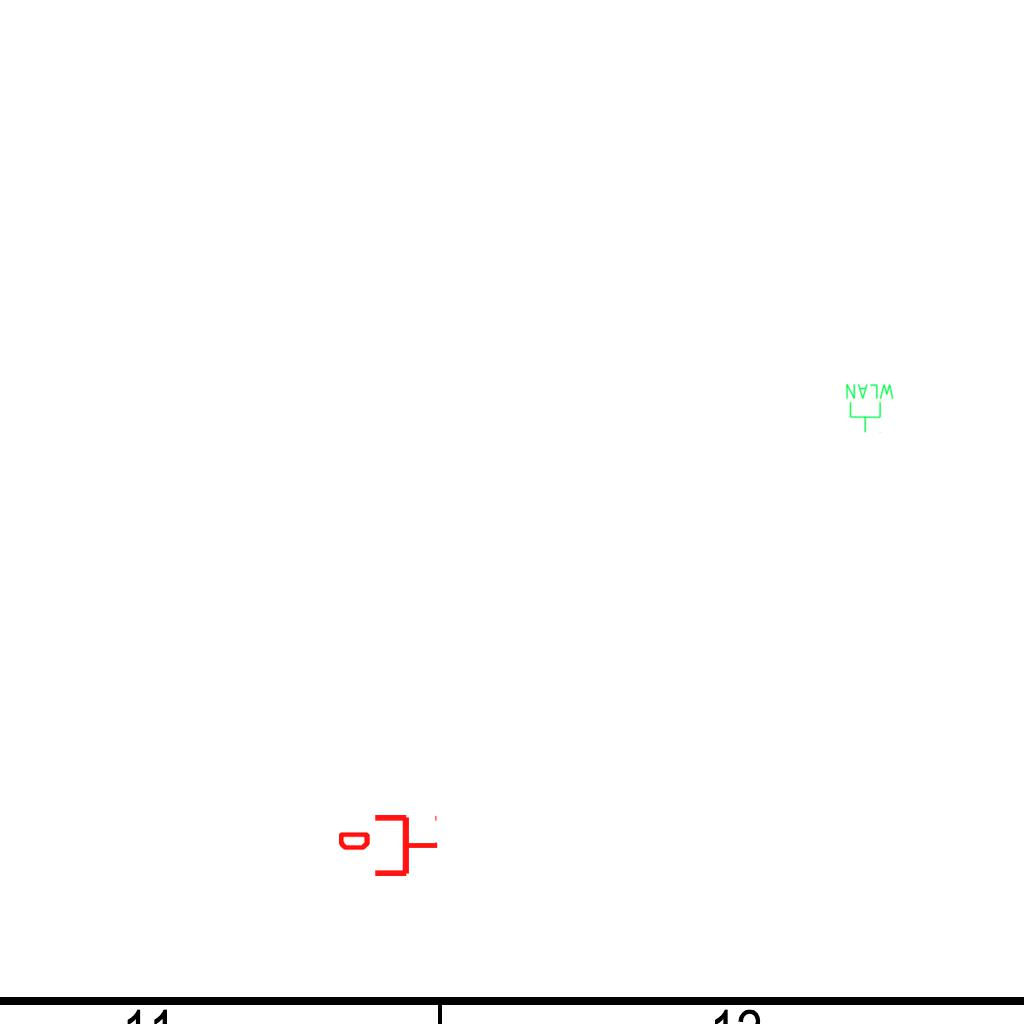Datenanschluss_einfach: (339, 811, 439, 880)
WLAN: (844, 382, 896, 434)
